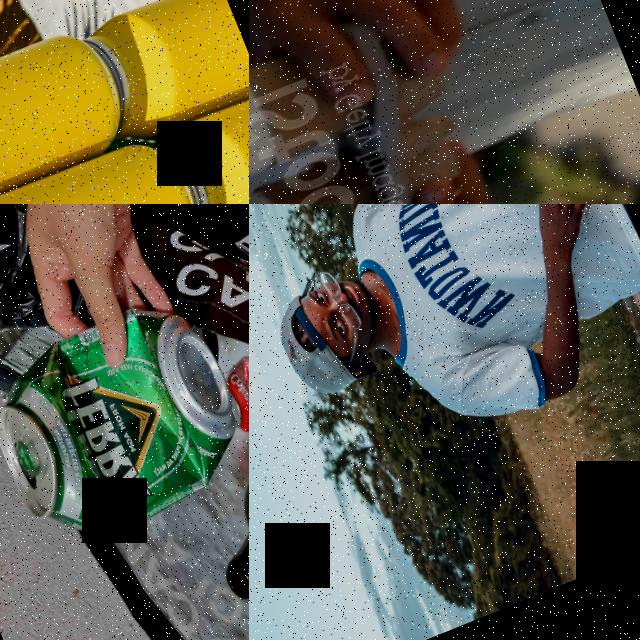bottle: (487, 204, 601, 246)
can: (0, 7, 154, 204), (0, 121, 229, 204)
cup: (249, 20, 382, 204), (249, 137, 405, 204)
